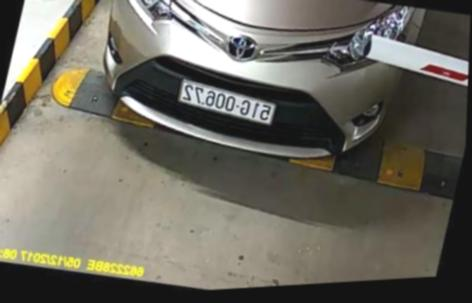License_Plate: (170, 72, 290, 136)
